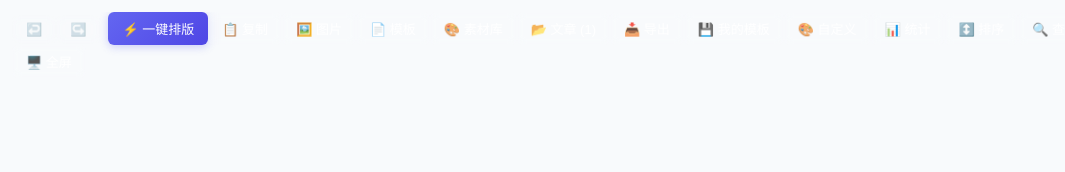
Scenario: Toolbar › shows error toast after failed copy
Click the button "📋 复制" at point(245, 28), box [208, 12, 282, 45]
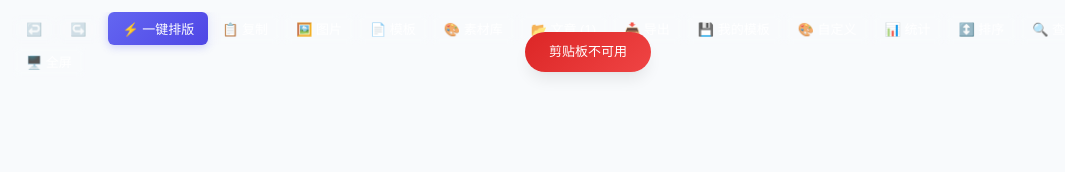
Expected: the message reads "剪贴板不可用", [549, 43, 627, 59]
